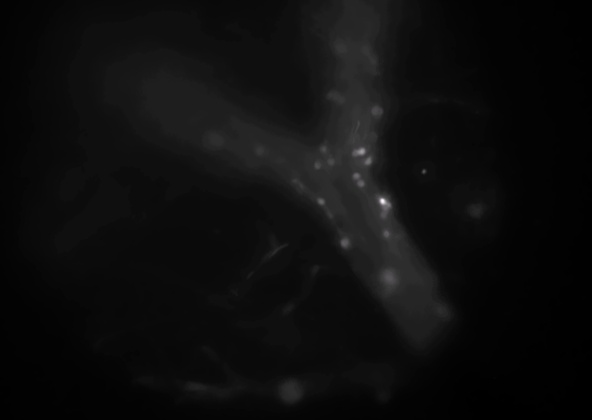cell: (376, 194, 390, 208), (354, 144, 368, 158), (370, 104, 384, 118), (348, 145, 362, 159), (361, 154, 375, 168), (315, 143, 329, 157), (310, 158, 324, 172), (324, 154, 338, 168), (325, 88, 339, 102), (350, 169, 364, 183), (335, 92, 349, 106), (353, 176, 367, 190), (339, 236, 353, 250), (382, 272, 396, 286), (379, 227, 393, 241), (383, 198, 397, 212), (377, 206, 391, 220), (379, 204, 393, 218), (313, 195, 327, 209), (287, 174, 301, 188), (254, 145, 268, 159), (207, 134, 221, 148), (435, 304, 449, 318), (358, 43, 372, 57), (366, 54, 380, 68), (333, 38, 347, 52), (367, 128, 381, 142)
